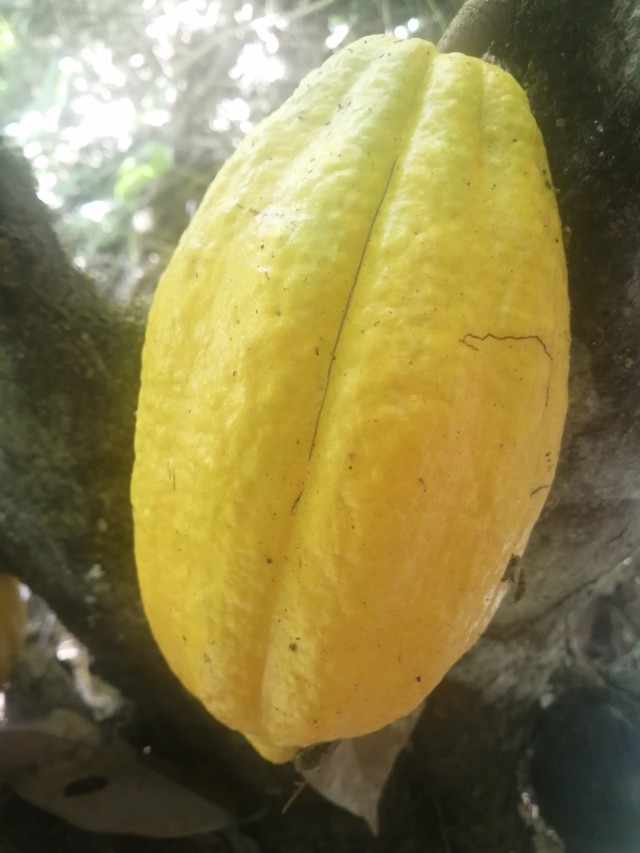Health: (99, 27, 600, 786)
